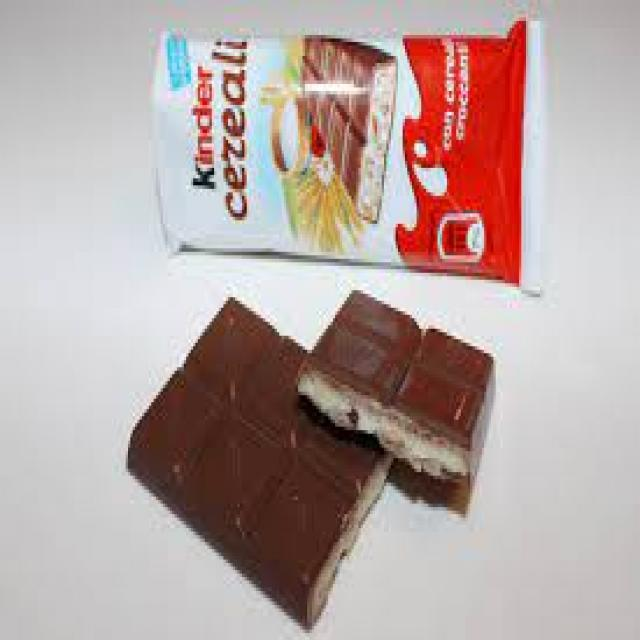Chocolate bar: (144, 25, 540, 298)
Chocolate bar packaged: (128, 298, 400, 623), (298, 290, 500, 493)
